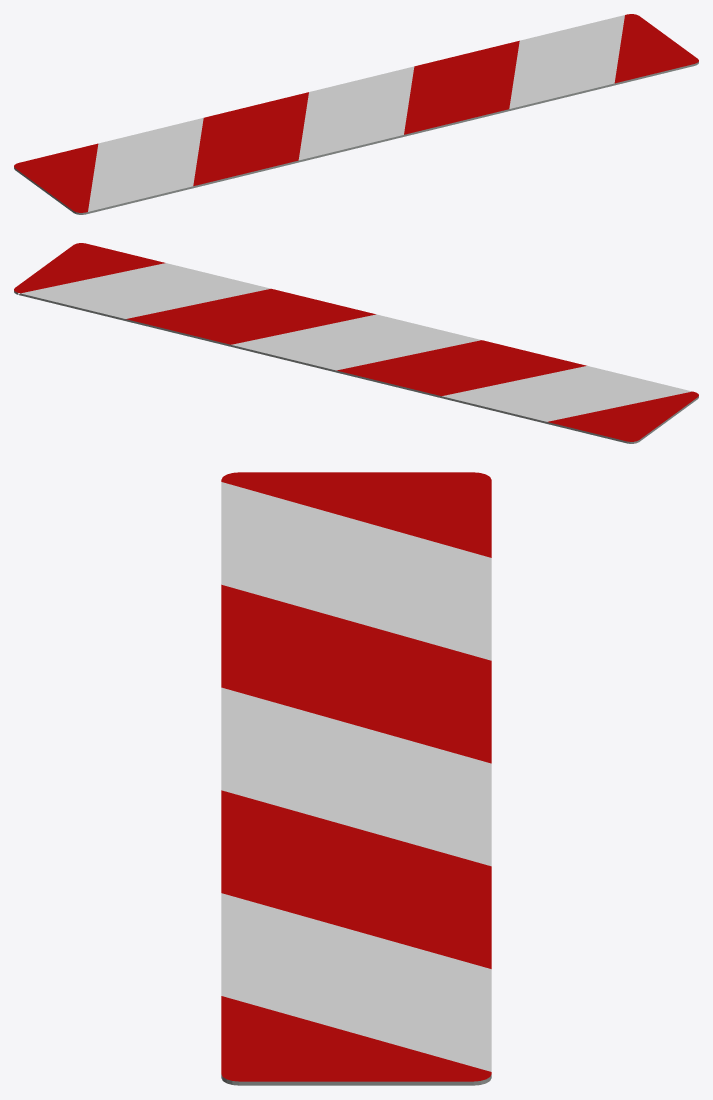
The picture shows the model from 3 angles, top to bottom: view 1: azimuth 30°, elevation 25°; view 2: azimuth 150°, elevation 25°; view 3: azimuth 270°, elevation 25°; orthographic projection. The views are drawn at different scales.
Parts seen in each view (by area): view 1: world; view 2: world; view 3: world.
Boxes of the visible parts, x1=… form: world: x1=14, y1=14, x2=698, y2=214; world: x1=14, y1=243, x2=698, y2=443; world: x1=221, y1=472, x2=491, y2=1085.
Bounding box in the file's own units: 0.032 × 0.0001 × 0.006.
